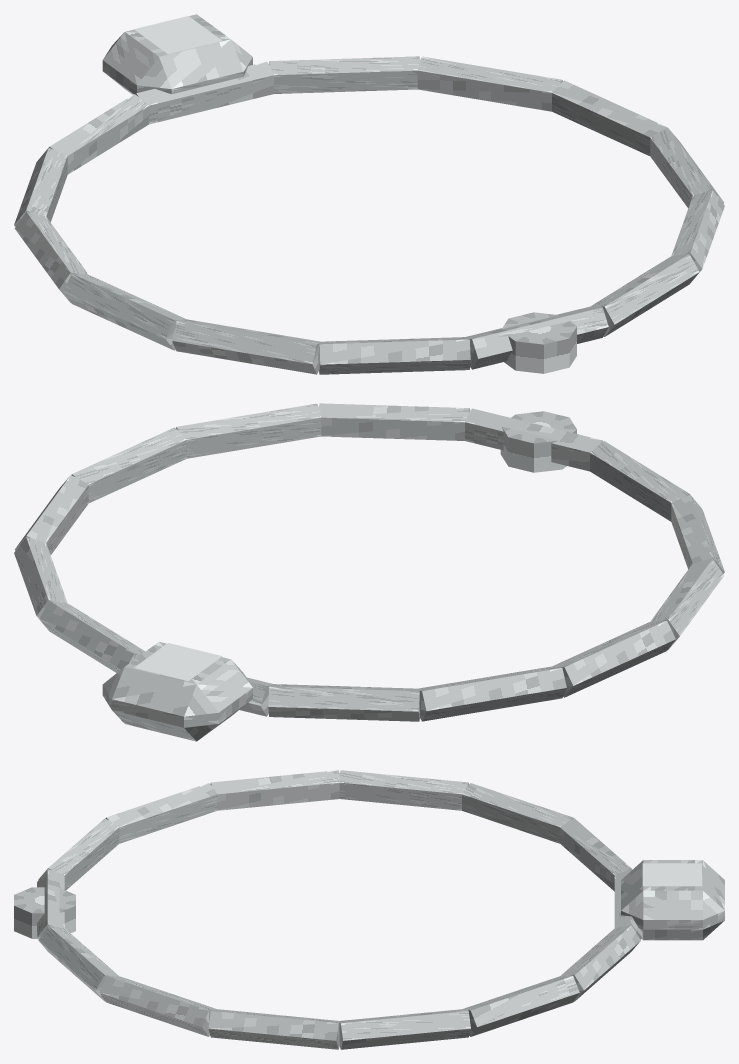
The model's file is platinum_locket.glb.
3 views of the same model, one above another, from view 1: azimuth 30°, elevation 25°; view 2: azimuth 150°, elevation 25°; view 3: azimuth 270°, elevation 25° (orthographic). The views are drawn at different scales.
Visible parts, largest first — view 1: block_hinged locket, block_necklace chain4, block_necklace chain5, block_necklace chain11, block_necklace chain12, block_necklace chain6, block_necklace chain13, block_necklace chain10, block_necklace chain2, block_necklace chain9, block_clasp, block_necklace chain3 (+5 smaller); view 2: block_hinged locket, block_necklace chain9, block_necklace chain8, block_necklace chain2, block_necklace chain1, block_necklace chain7, block_necklace chain0, block_necklace chain11, block_necklace chain4, block_necklace chain3, block_clasp, block_necklace chain6 (+5 smaller); view 3: block_hinged locket, block_necklace chain13, block_necklace chain0, block_necklace chain7, block_necklace chain6, block_necklace chain12, block_necklace chain1, block_necklace chain5, block_necklace chain8, block_necklace chain11, block_necklace chain2, block_necklace chain4 (+5 smaller).
Boxes of the visible parts, left/top/right/bottom form: block_hinged locket: left=102, top=14, right=252, bottom=94; block_necklace chain4: left=319, top=337, right=470, bottom=374; block_necklace chain5: left=172, top=319, right=320, bottom=374; block_necklace chain11: left=269, top=56, right=419, bottom=93; block_necklace chain12: left=417, top=56, right=562, bottom=111; block_necklace chain6: left=63, top=273, right=185, bottom=350; block_necklace chain13: left=552, top=80, right=667, bottom=155; block_necklace chain10: left=135, top=61, right=273, bottom=124; block_necklace chain2: left=590, top=254, right=699, bottom=336; block_necklace chain9: left=49, top=94, right=148, bottom=174; block_clasp: left=502, top=312, right=576, bottom=373; block_necklace chain3: left=465, top=306, right=608, bottom=369; block_hinged locket: left=102, top=642, right=252, bottom=741; block_necklace chain9: left=268, top=684, right=419, bottom=721; block_necklace chain8: left=418, top=666, right=566, bottom=721; block_necklace chain2: left=319, top=403, right=469, bottom=440; block_necklace chain1: left=176, top=403, right=321, bottom=458; block_necklace chain7: left=553, top=620, right=675, bottom=697; block_necklace chain0: left=71, top=427, right=186, bottom=502; block_necklace chain11: left=39, top=601, right=145, bottom=672; block_necklace chain4: left=590, top=441, right=689, bottom=521; block_necklace chain3: left=465, top=408, right=603, bottom=471; block_clasp: left=500, top=411, right=576, bottom=472; block_necklace chain6: left=650, top=558, right=724, bottom=649; block_hinged locket: left=621, top=860, right=724, bottom=940; block_necklace chain13: left=339, top=1009, right=470, bottom=1049; block_necklace chain0: left=208, top=1009, right=339, bottom=1049; block_necklace chain7: left=339, top=770, right=468, bottom=810; block_necklace chain6: left=210, top=770, right=339, bottom=810; block_necklace chain12: left=462, top=975, right=579, bottom=1036; block_necklace chain1: left=99, top=975, right=216, bottom=1036; block_necklace chain5: left=105, top=783, right=217, bottom=843; block_necklace chain8: left=462, top=783, right=573, bottom=843; block_necklace chain11: left=561, top=925, right=640, bottom=1001; block_necklace chain2: left=38, top=925, right=118, bottom=1001; block_necklace chain4: left=38, top=818, right=119, bottom=890.
Bounding box in the file's own units: 0.1028 × 0.00934 × 0.118.
1 material, 1 textured.
